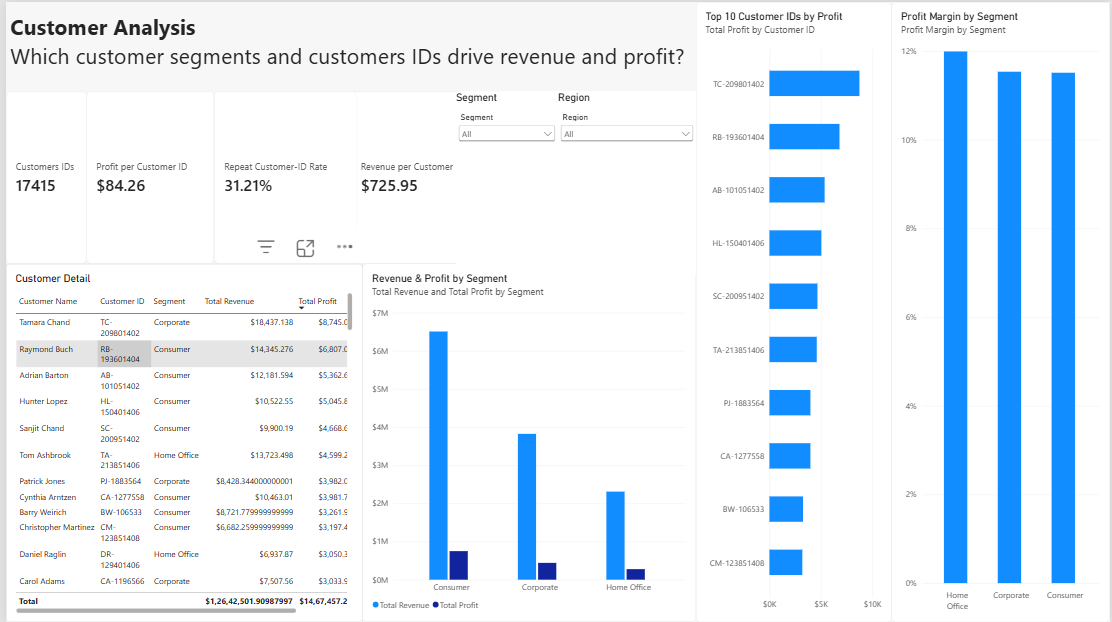

Layout of this report page (visuals, bound fields, positions):
{"tool":"powerbi","page":{"name":"Customer Analysis","canvas":[1920,1080],"ordinal":2},"visuals":[{"type":"textbox","box":[7.5,17.5,1185,120],"z":0},{"type":"cardVisual","fields":{"Data":["CLEAN_GlobalSuperstore_2016.Total Customers"]},"box":[0,155,140,300],"z":1000},{"type":"cardVisual","fields":{"Data":["CLEAN_GlobalSuperstore_2016.Revenue per Customer"]},"box":[600,155,237.5,300],"z":2000},{"type":"cardVisual","fields":{"Data":["CLEAN_GlobalSuperstore_2016.Repeat Customer Rate"]},"box":[362.5,155,247.5,300],"z":3000},{"type":"cardVisual","fields":{"Data":["CLEAN_GlobalSuperstore_2016.Profit per Customer"]},"box":[140,155,222.5,300],"z":4000},{"type":"clusteredColumnChart","title":"Revenue & Profit by Segment","fields":{"Category":["CLEAN_GlobalSuperstore_2016.Segment"],"Y":["CLEAN_GlobalSuperstore_2016.Total Revenue","CLEAN_GlobalSuperstore_2016.Total Profit"]},"box":[620,455,580,625],"z":5000},{"type":"clusteredBarChart","title":"Top 10 Customer IDs by Profit","fields":{"Category":["CLEAN_GlobalSuperstore_2016.Customer ID"],"Y":["CLEAN_GlobalSuperstore_2016.Total Profit"]},"box":[1200,0,340,1080],"z":6000},{"type":"tableEx","title":"Customer Detail","fields":{"Values":["CLEAN_GlobalSuperstore_2016.Customer Name","CLEAN_GlobalSuperstore_2016.Customer ID","CLEAN_GlobalSuperstore_2016.Segment","CLEAN_GlobalSuperstore_2016.Total Revenue","CLEAN_GlobalSuperstore_2016.Total Profit","CLEAN_GlobalSuperstore_2016.Profit Margin"]},"box":[0,455,620,625],"z":7000},{"type":"slicer","title":"Segment","fields":{"Values":["CLEAN_GlobalSuperstore_2016.Segment"]},"box":[782.5,155,177.5,317.5],"z":8000},{"type":"slicer","title":"Region","fields":{"Values":["CLEAN_GlobalSuperstore_2016.Region"]},"box":[960,155,240,320],"z":9000},{"type":"clusteredColumnChart","title":"Profit Margin by Segment","fields":{"Category":["CLEAN_GlobalSuperstore_2016.Segment"],"Y":["CLEAN_GlobalSuperstore_2016.Profit Margin"]},"box":[1540,0,380,1080],"z":10000}]}

Visuals, with their boxes in screenshot pixels (x1, y1, x2, y2), scaled from the page's 1920x1080 canvas onto the 1112x622 screenshot:
textbox: [left=4, top=10, right=691, bottom=79]
cardVisual - CLEAN_GlobalSuperstore_2016.Total Customers: [left=0, top=89, right=81, bottom=262]
cardVisual - CLEAN_GlobalSuperstore_2016.Revenue per Customer: [left=348, top=89, right=485, bottom=262]
cardVisual - CLEAN_GlobalSuperstore_2016.Repeat Customer Rate: [left=210, top=89, right=353, bottom=262]
cardVisual - CLEAN_GlobalSuperstore_2016.Profit per Customer: [left=81, top=89, right=210, bottom=262]
"Revenue & Profit by Segment" clusteredColumnChart: [left=359, top=262, right=695, bottom=621]
"Top 10 Customer IDs by Profit" clusteredBarChart: [left=695, top=0, right=892, bottom=621]
"Customer Detail" tableEx: [left=0, top=262, right=359, bottom=621]
"Segment" slicer: [left=453, top=89, right=556, bottom=272]
"Region" slicer: [left=556, top=89, right=695, bottom=274]
"Profit Margin by Segment" clusteredColumnChart: [left=892, top=0, right=1111, bottom=621]
